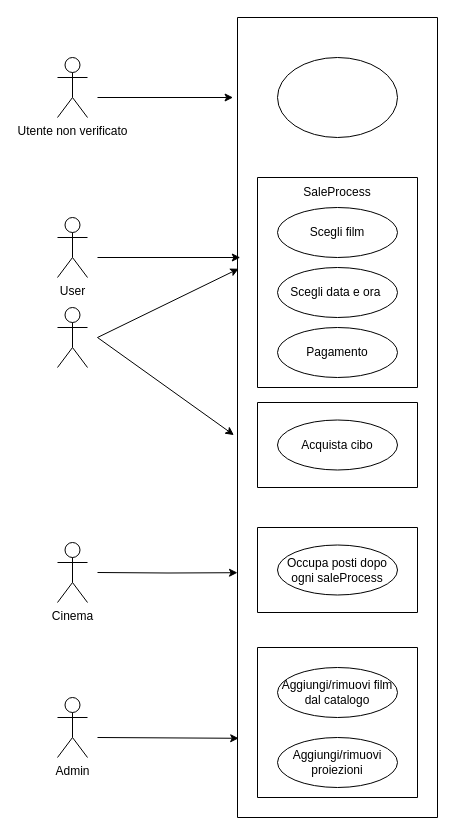
Image size: 455x835. Some labels were removed from this diagram. The shapes that lost their labels are listed below. From the top down, each one's centre as x and y in pixels, then its label:
the point at 337,97: Registrazione/Login
the point at 72,337: Cashier
